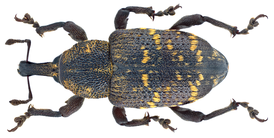dolgonosik: (4, 6, 273, 131)
